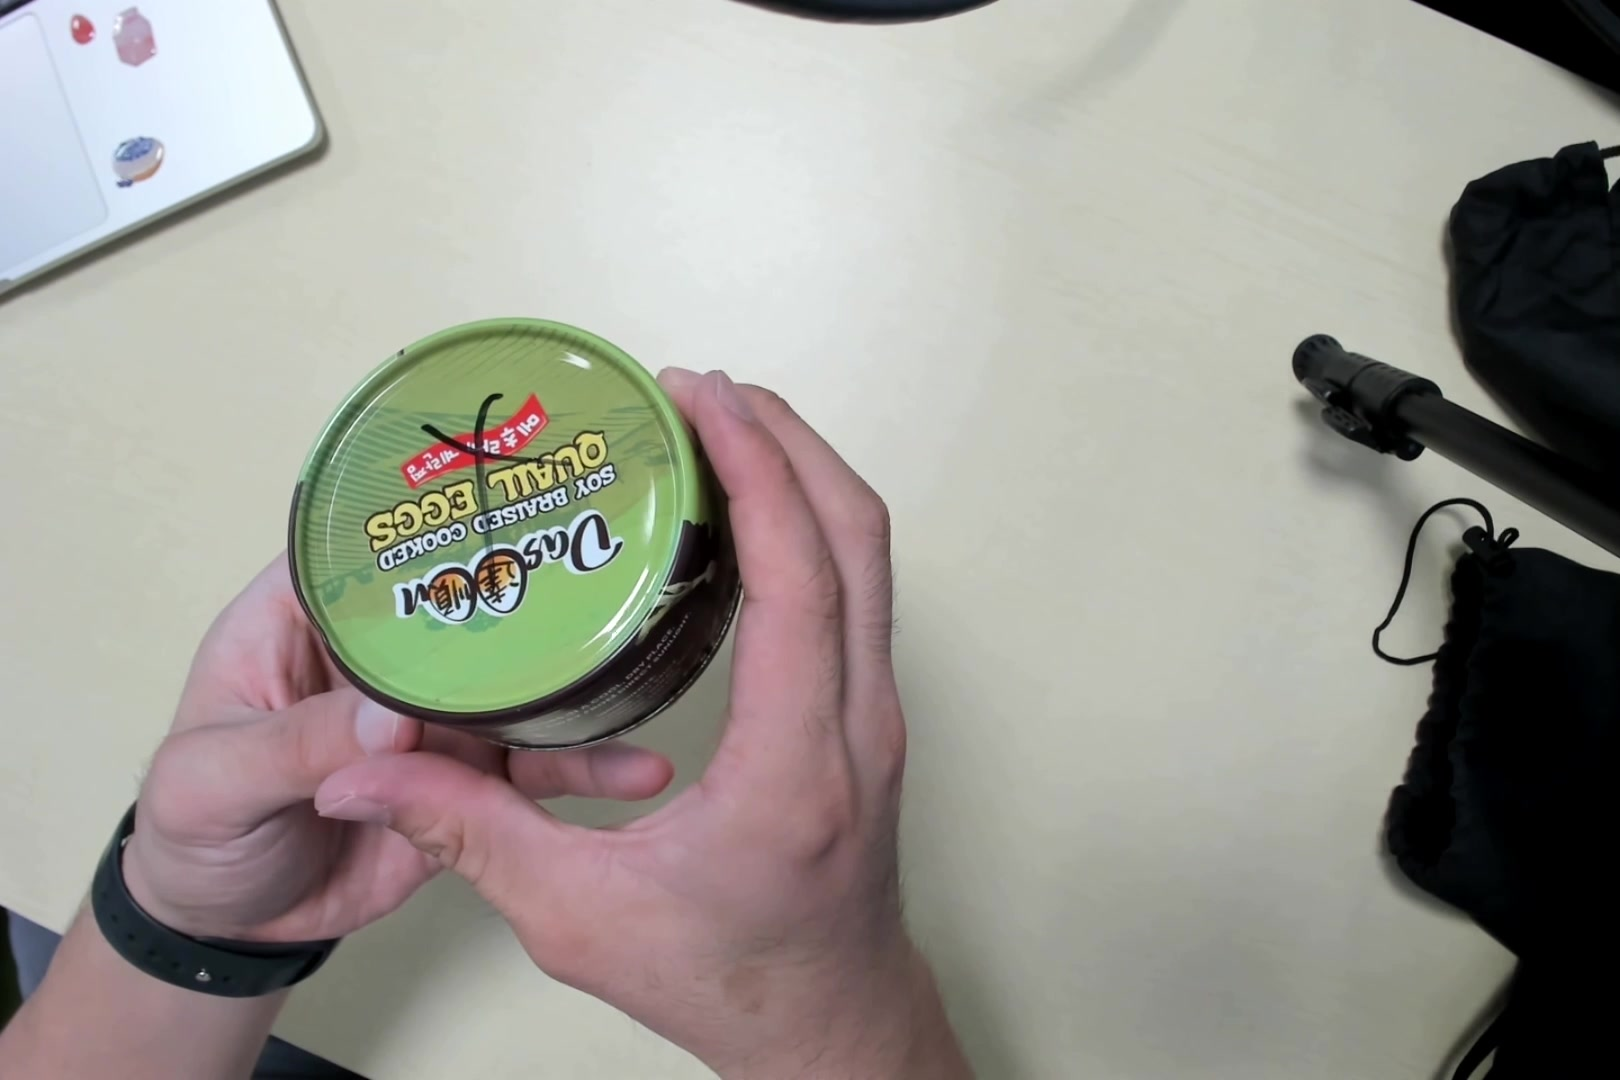CannedPorkLunchronMeat_100-199g_NonHalal_NonHealthy: (290, 322, 742, 761)
